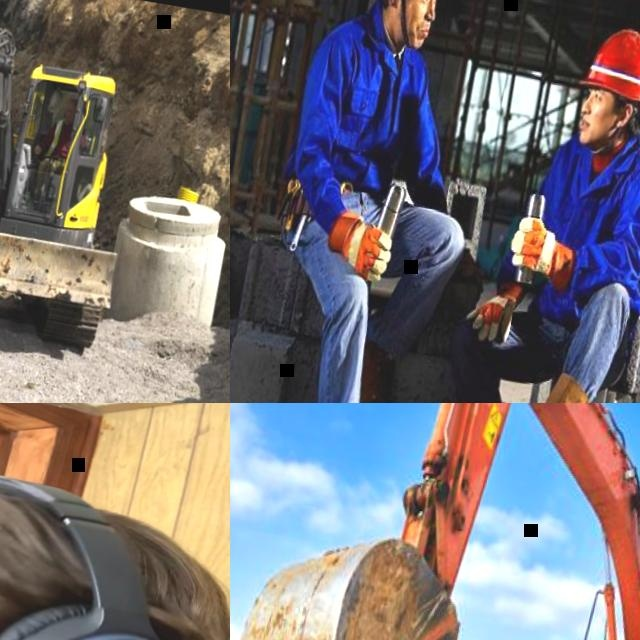Hardhat: (579, 23, 640, 103)
NO-Hardhat: (0, 431, 230, 640), (66, 97, 78, 109)
NO-Mask: (576, 111, 612, 145), (397, 17, 431, 46), (64, 113, 75, 125)
NO-Safety Vest: (312, 19, 438, 201), (530, 130, 640, 317)
Person: (230, 0, 523, 403), (428, 8, 640, 403), (0, 411, 230, 640), (24, 93, 94, 210)
Safety Vest: (45, 118, 63, 160)
machinery: (230, 403, 640, 640), (0, 0, 155, 403)
